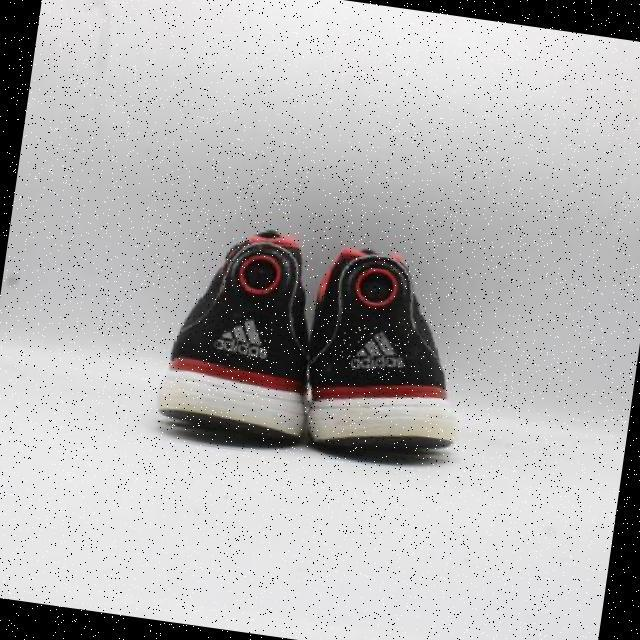Adidas: (340, 324, 410, 377), (214, 315, 273, 362)
